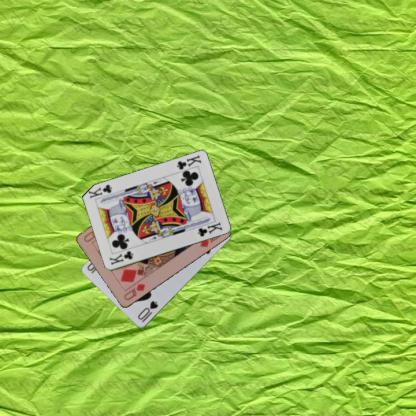10s: (135, 298, 160, 324)
Kc: (106, 248, 135, 266), (174, 153, 202, 171)
Qd: (121, 282, 147, 302)
